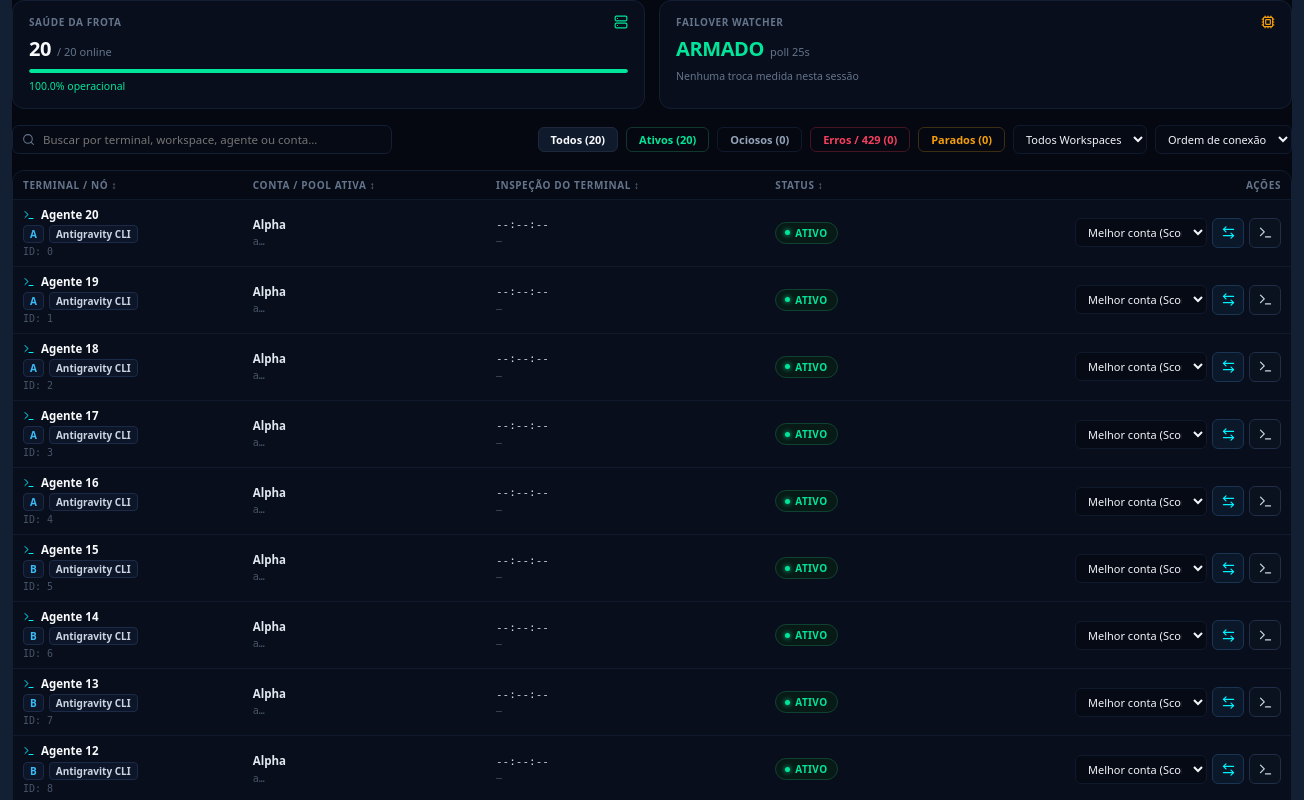
it: ordena antes de paginar e filtra terminais por workspace
Later steps or results of the test are not shown.
Click the button "Terminal / Nó ↕" at (70, 185), box [23,178,117,192]
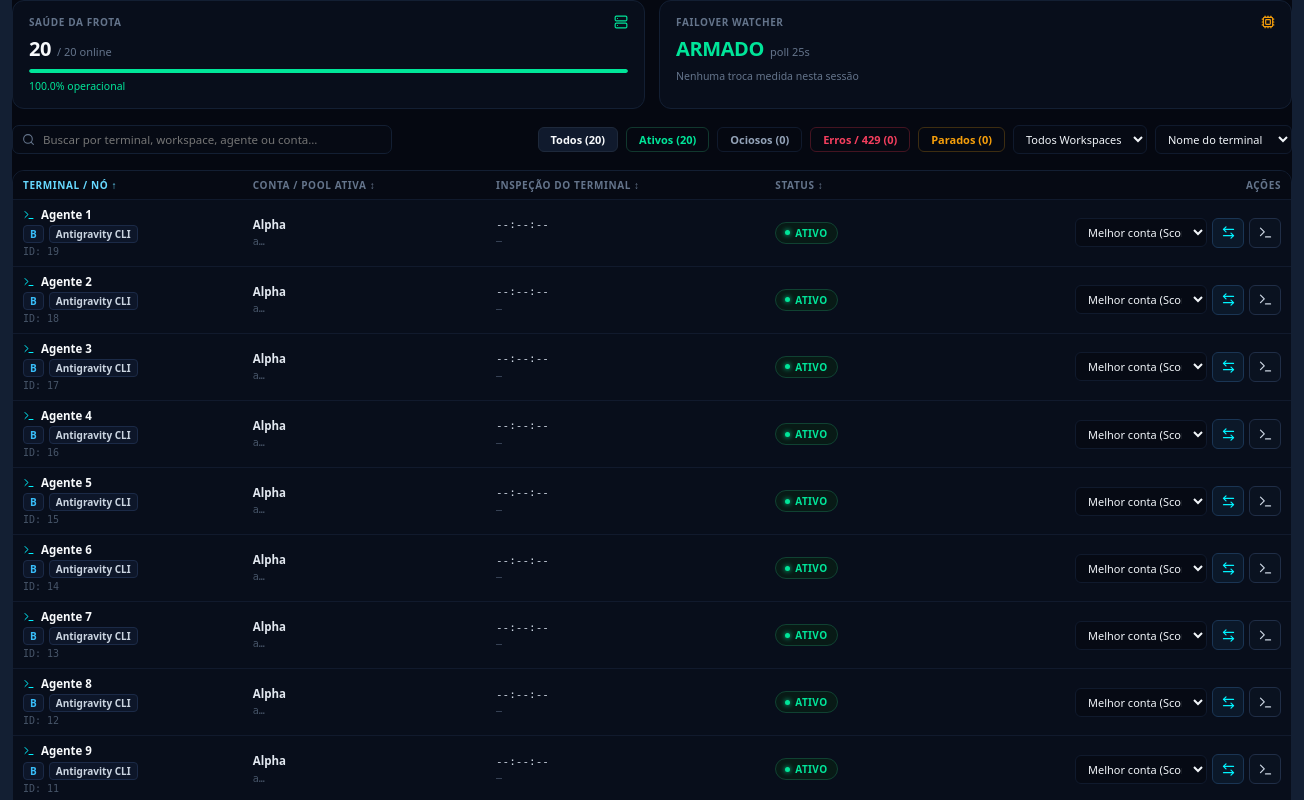
Now the text with class "table-acc-name" reads "Agente 1", box [41,207,92,222]
